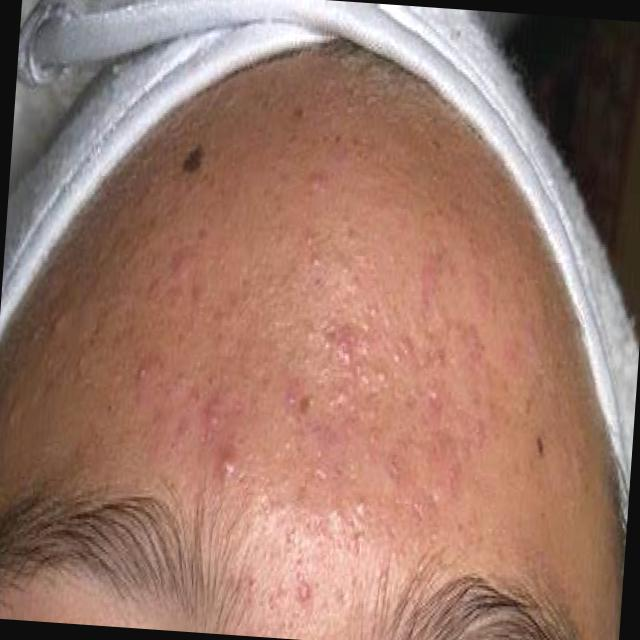fungal: (128, 198, 542, 541)
